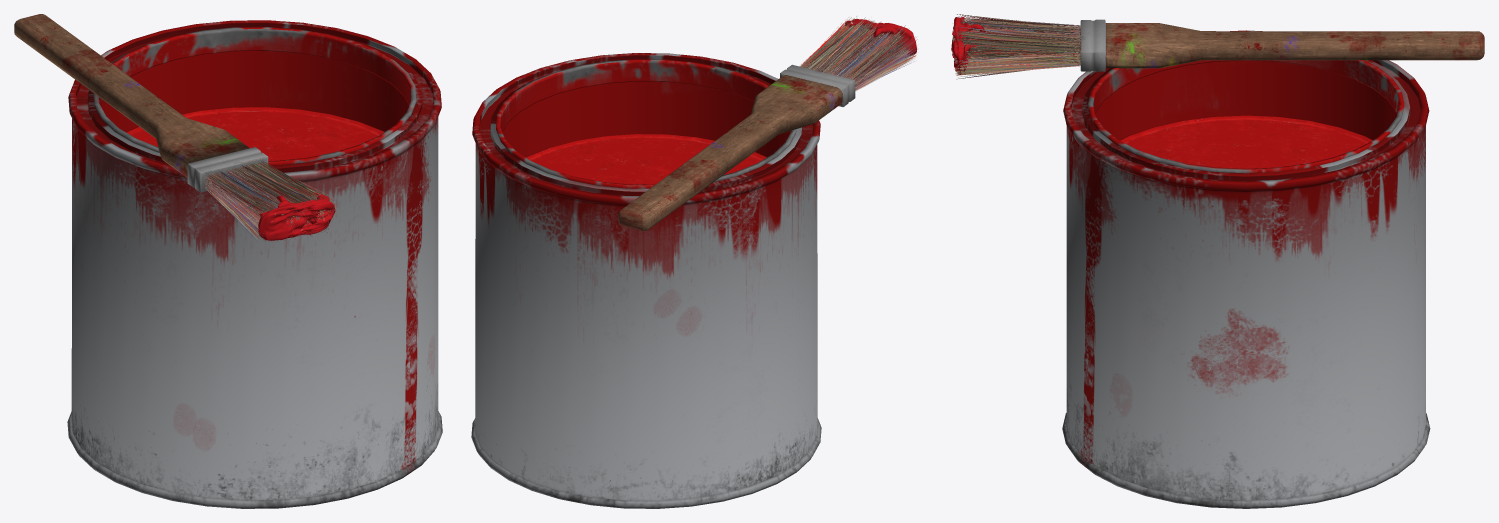
Rendered from paintcan.glb.
3 renders of one model, left to right at view 1: azimuth 30°, elevation 25°; view 2: azimuth 150°, elevation 25°; view 3: azimuth 270°, elevation 25°, orthographic. The views are drawn at different scales.
Visible parts, largest first — view 1: Paint_0; view 2: Paint_0; view 3: Paint_0.
Part boxes in pixels (<box>): Paint_0: <box>14,14,442,508</box>; Paint_0: <box>471,16,917,508</box>; Paint_0: <box>951,14,1484,508</box>.
Size of the model in its own units: 2.05 by 2.19 by 2.98.
Materials: 1 (1 with a texture image).
